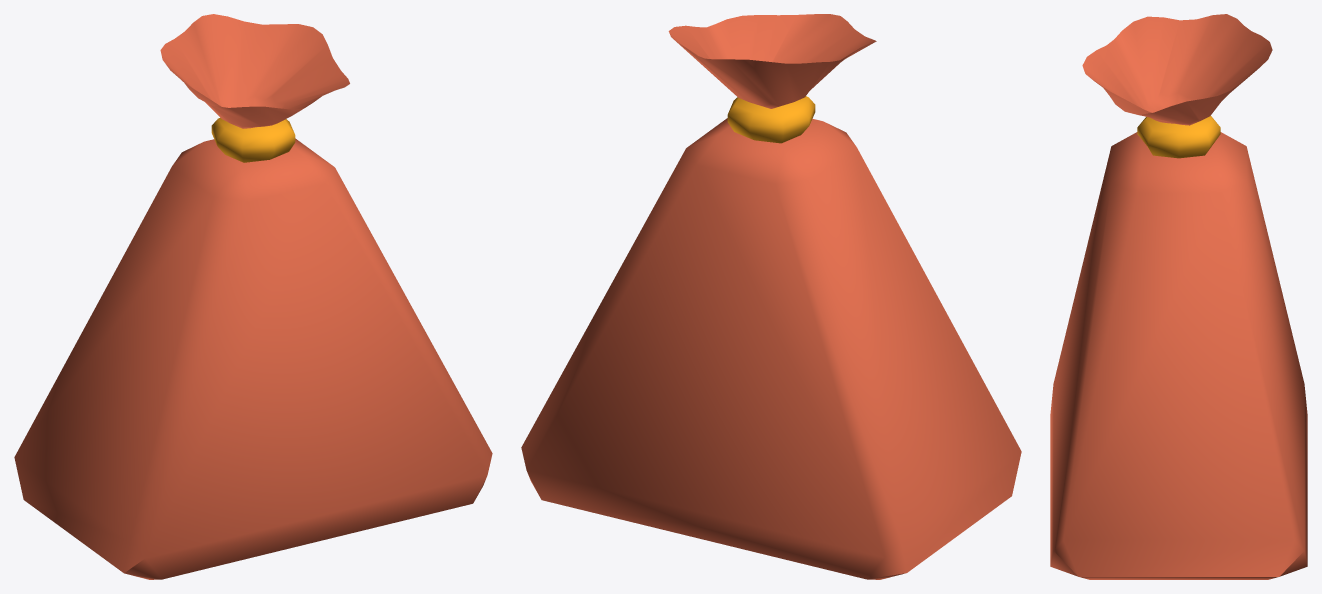
The model's file is Triangle.fbx.
3 renders of one model, left to right at view 1: azimuth 30°, elevation 25°; view 2: azimuth 150°, elevation 25°; view 3: azimuth 270°, elevation 25°, orthographic. The views are drawn at different scales.
Parts seen in each view (by area): view 1: Triangle; view 2: Triangle; view 3: Triangle.
Boxes of the visible parts, bbox=[...] form: Triangle: bbox=[14, 14, 492, 579]; Triangle: bbox=[521, 14, 1021, 579]; Triangle: bbox=[1050, 14, 1307, 579].
Size of the model in its own units: 7.17 by 8.76 by 4.41.
